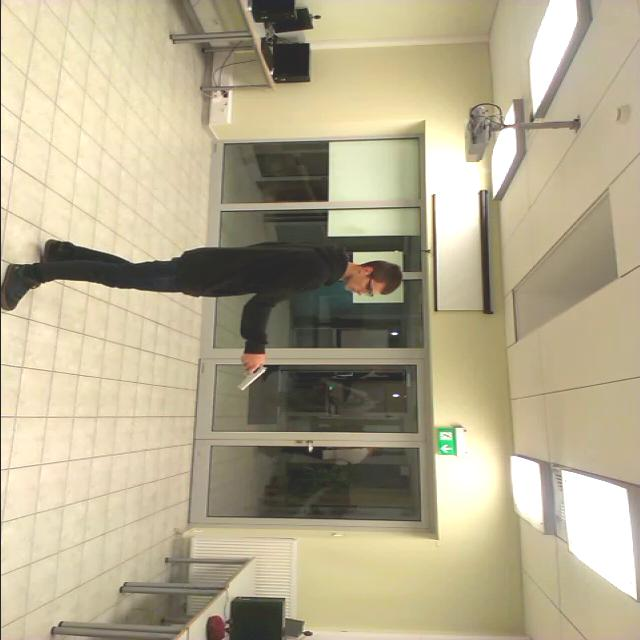handgun: (224, 354, 276, 402)
